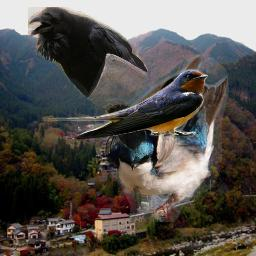Crow: (28, 7, 148, 154)
Swallow: (104, 54, 229, 222), (41, 68, 208, 140)
